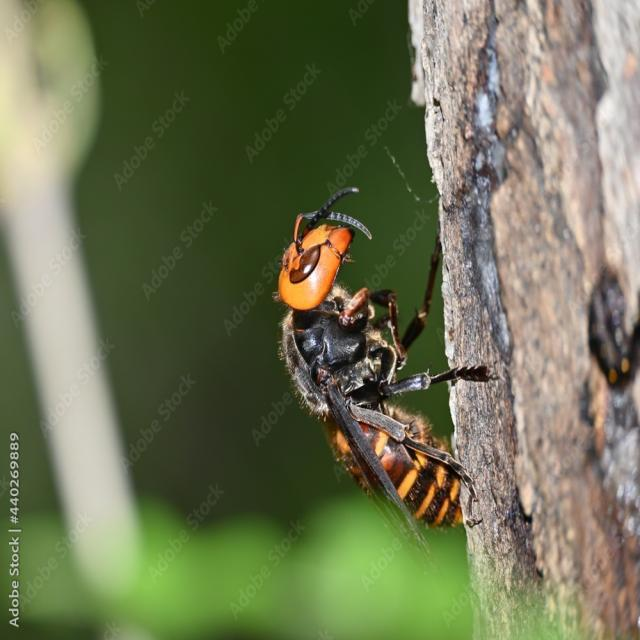Wasp: (260, 170, 484, 543)
